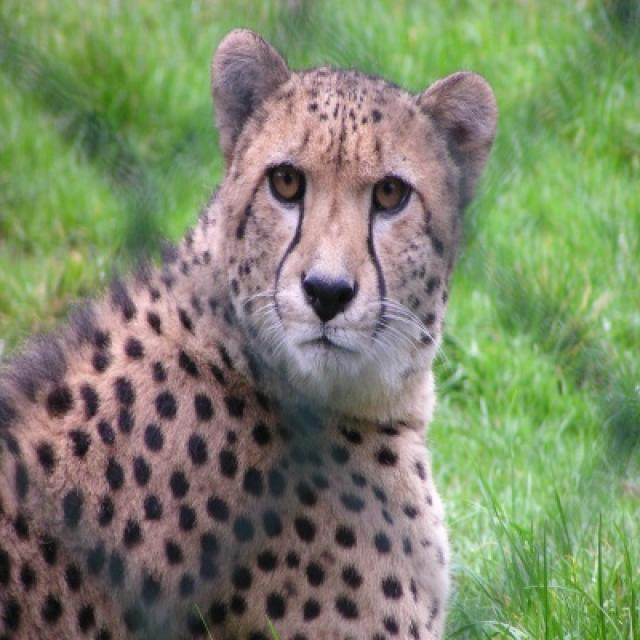Cheetah: (0, 32, 494, 638)
